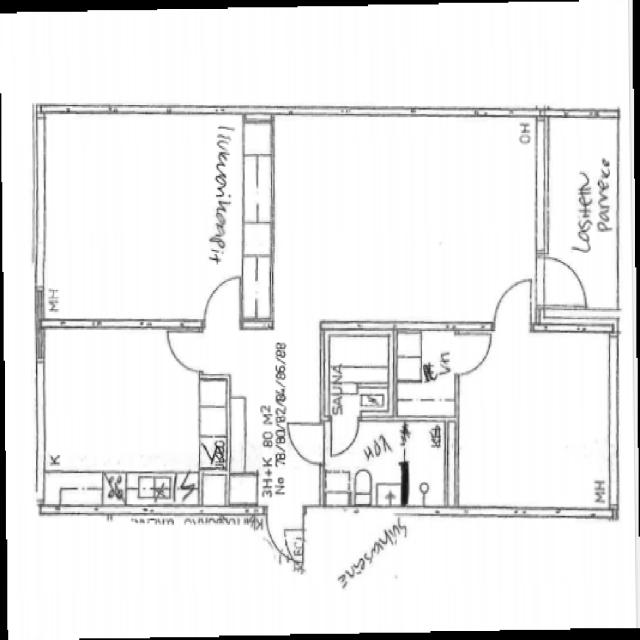door: (271, 108, 538, 324), (540, 254, 588, 312), (491, 274, 534, 331), (201, 271, 245, 326), (450, 325, 494, 378), (164, 323, 207, 374), (287, 420, 327, 468), (328, 413, 361, 459), (281, 525, 307, 568)
window: (27, 109, 55, 292), (530, 118, 556, 260), (556, 104, 600, 122)
zone: (274, 110, 533, 325), (35, 101, 236, 323), (456, 320, 618, 519), (37, 326, 214, 480), (539, 106, 624, 312), (324, 419, 406, 508), (324, 328, 394, 419), (396, 328, 457, 418), (404, 418, 457, 510), (42, 472, 105, 512)
